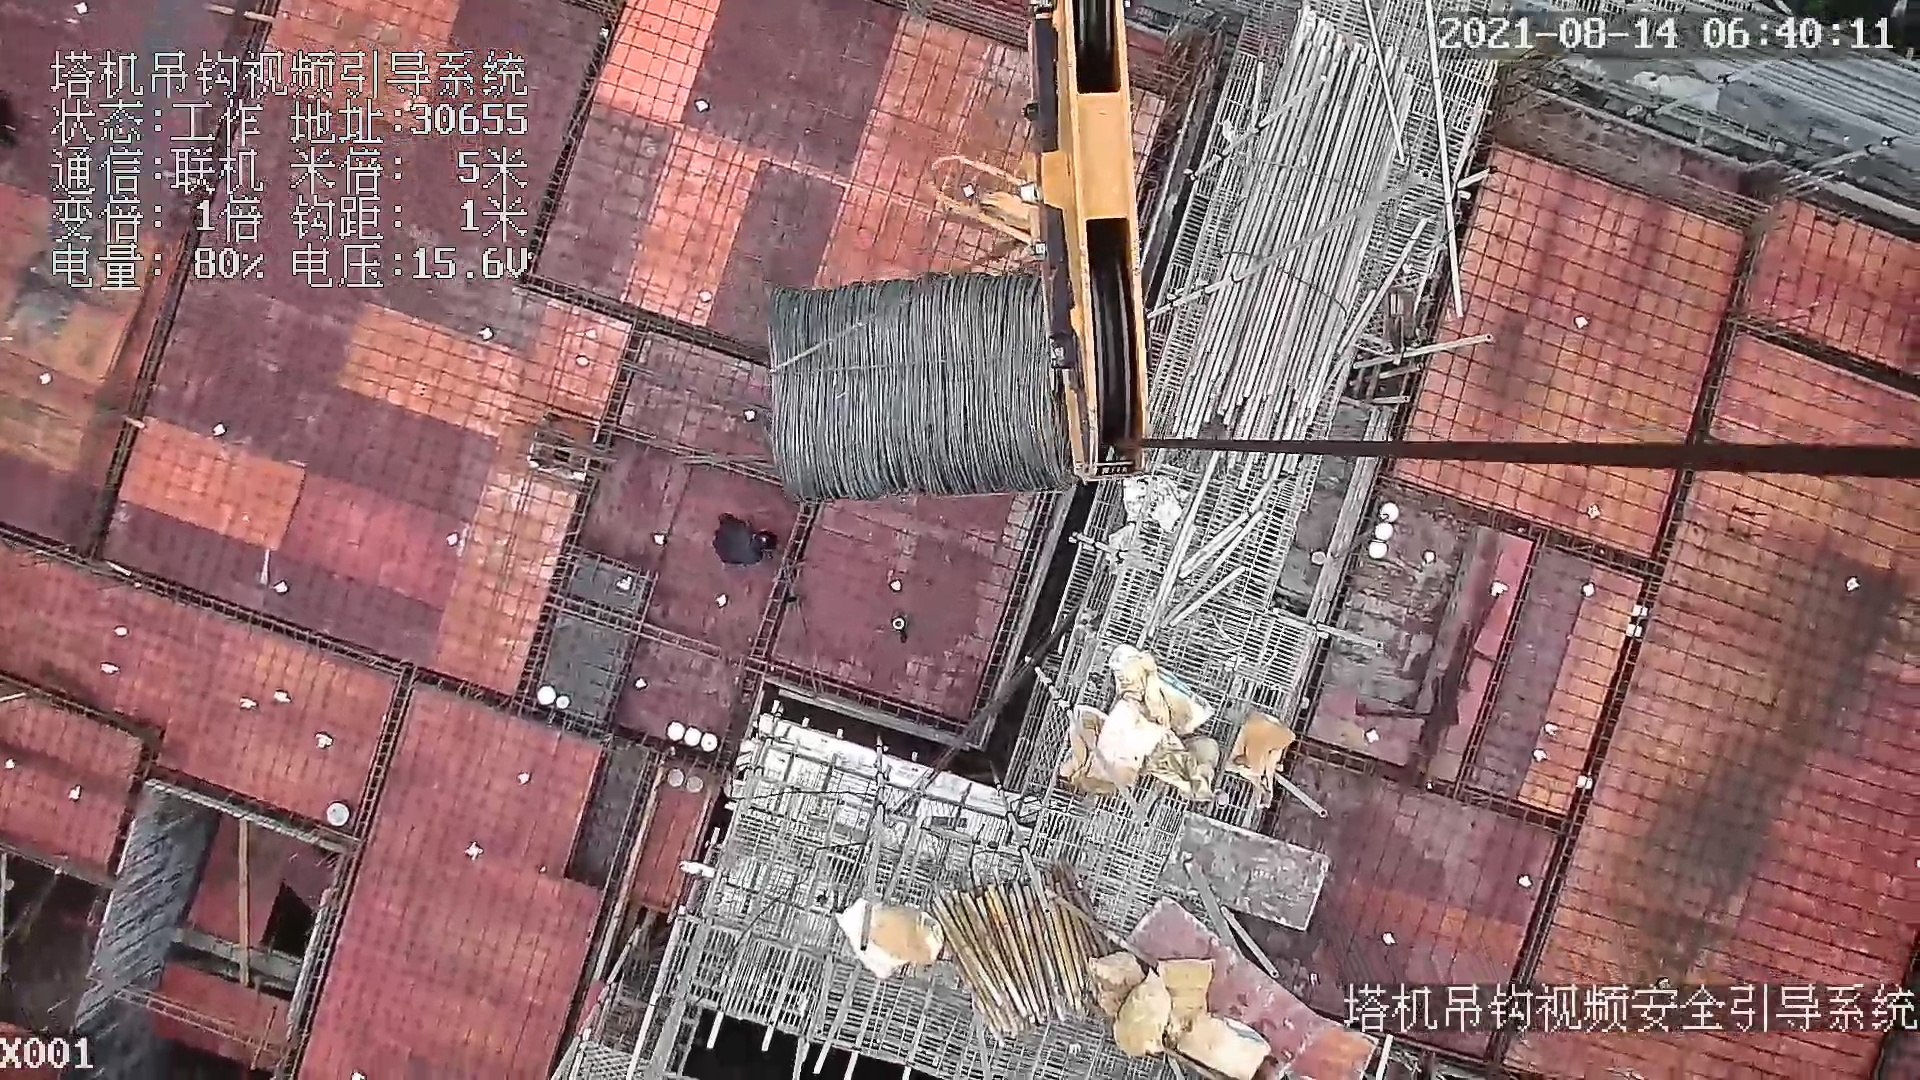hook: (919, 1, 1153, 489)
person: (710, 513, 773, 571)
scaffold: (923, 850, 1115, 1050)
